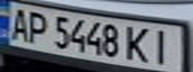4: (84, 19, 106, 55), (66, 17, 87, 53)
5: (48, 13, 72, 51)
8: (100, 21, 124, 60)
A: (3, 6, 33, 42)
I: (148, 26, 178, 65)
K: (121, 24, 154, 64)
P: (21, 9, 51, 44)
